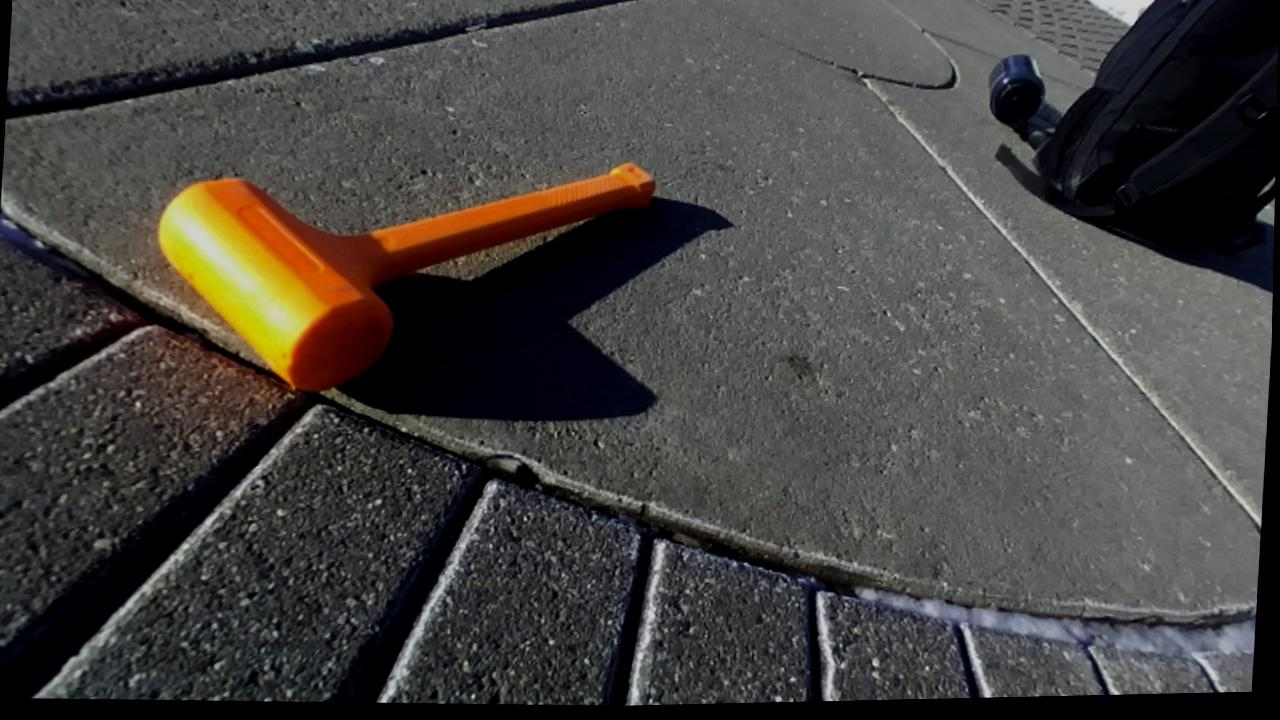mallet: (158, 164, 654, 391)
